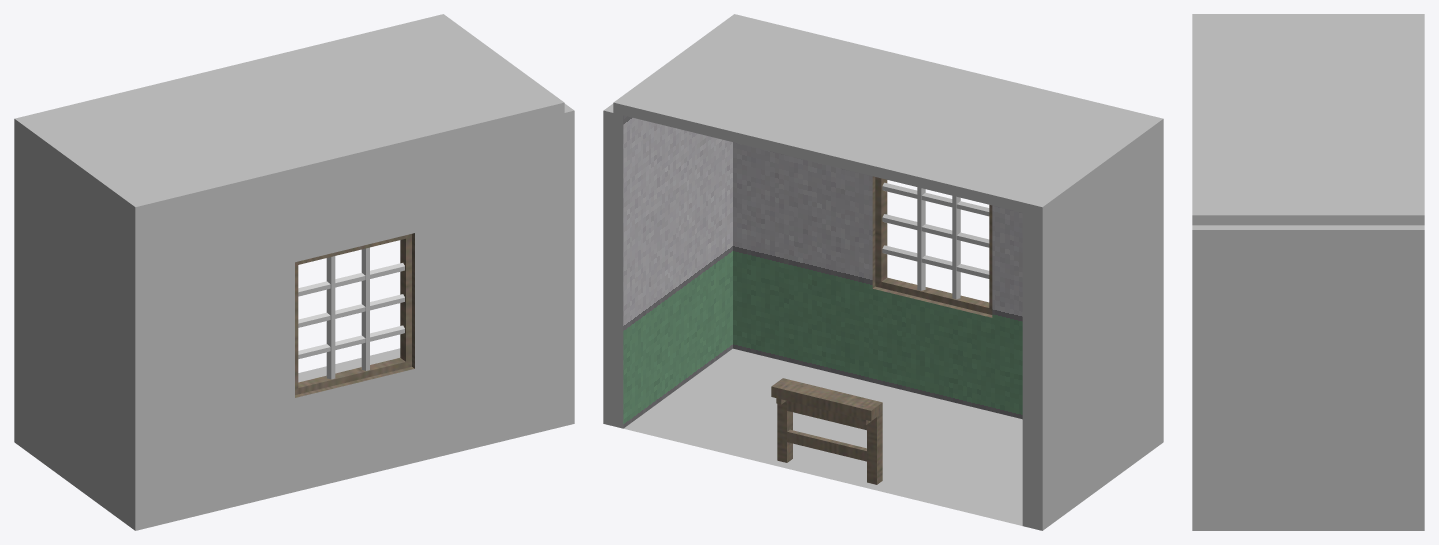
Rendered from End_Room.fbx.
3 renders of one model, left to right at view 1: azimuth 30°, elevation 25°; view 2: azimuth 150°, elevation 25°; view 3: azimuth 270°, elevation 25°, orthographic. The views are drawn at different scales.
Parts seen in each view (by area): view 1: Wall, Ceiling, Window, Ground; view 2: Wall, Ceiling, Ground, Window, Table; view 3: Wall, Ceiling.
Part boxes in pixels (x1=…): Wall: x1=14, y1=103, x2=574, y2=530; Ceiling: x1=14, y1=14, x2=564, y2=217; Window: x1=295, y1=234, x2=411, y2=394; Ground: x1=298, y1=348, x2=400, y2=382; Wall: x1=603, y1=103, x2=1163, y2=530; Ceiling: x1=613, y1=14, x2=1163, y2=217; Ground: x1=623, y1=348, x2=1022, y2=525; Window: x1=875, y1=177, x2=992, y2=314; Table: x1=771, y1=378, x2=882, y2=484; Wall: x1=1192, y1=225, x2=1424, y2=530; Ceiling: x1=1192, y1=14, x2=1424, y2=225.
Size of the model in its own units: 440 by 310 by 210.
